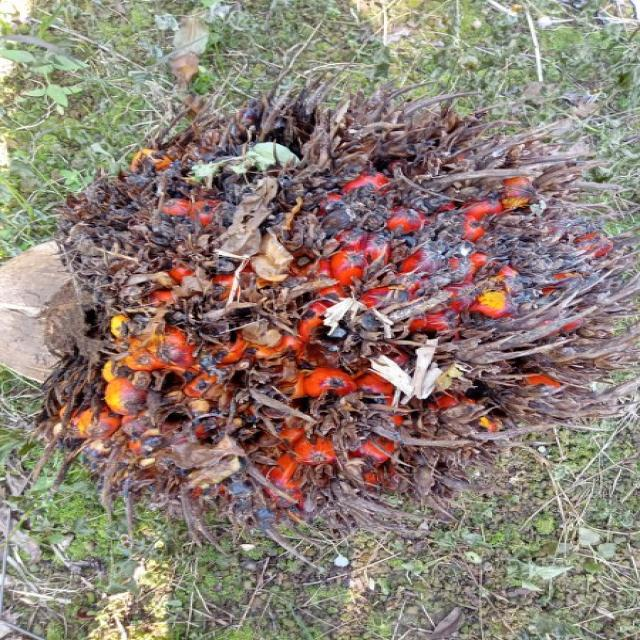fraksi 4: (26, 61, 620, 568)
